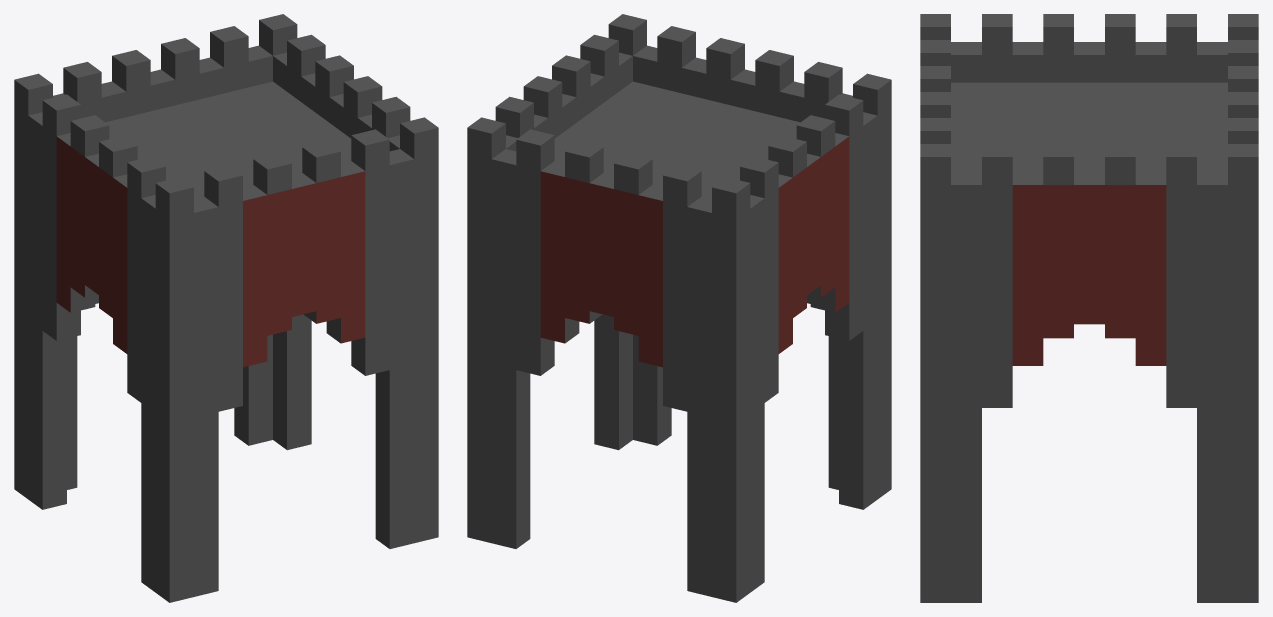
Rendered from azuki_banner_tower.glb.
3 views of the same model, side by side, from view 1: azimuth 30°, elevation 25°; view 2: azimuth 150°, elevation 25°; view 3: azimuth 270°, elevation 25° (orthographic). The views are drawn at different scales.
Visible parts, largest first — view 1: Front(AndBack)Wall, Right(AndLeft)Wall, Pillar, Plane; view 2: Front(AndBack)Wall, Right(AndLeft)Wall, Pillar, Plane; view 3: Right(AndLeft)Wall, Pillar, Plane, Front(AndBack)Wall.
Boxes of the visible parts, bbox=[...] form: Front(AndBack)Wall: bbox=[53, 26, 414, 596]; Right(AndLeft)Wall: bbox=[28, 34, 410, 592]; Pillar: bbox=[14, 14, 438, 602]; Plane: bbox=[105, 81, 351, 198]; Front(AndBack)Wall: bbox=[491, 26, 852, 596]; Right(AndLeft)Wall: bbox=[495, 34, 877, 592]; Pillar: bbox=[467, 14, 891, 602]; Plane: bbox=[554, 81, 800, 198]; Right(AndLeft)Wall: bbox=[951, 14, 1227, 602]; Pillar: bbox=[920, 14, 1258, 602]; Plane: bbox=[951, 82, 1227, 171]; Front(AndBack)Wall: bbox=[920, 40, 1258, 143].
Bounding box in the file's own units: 22 × 32 × 22.
